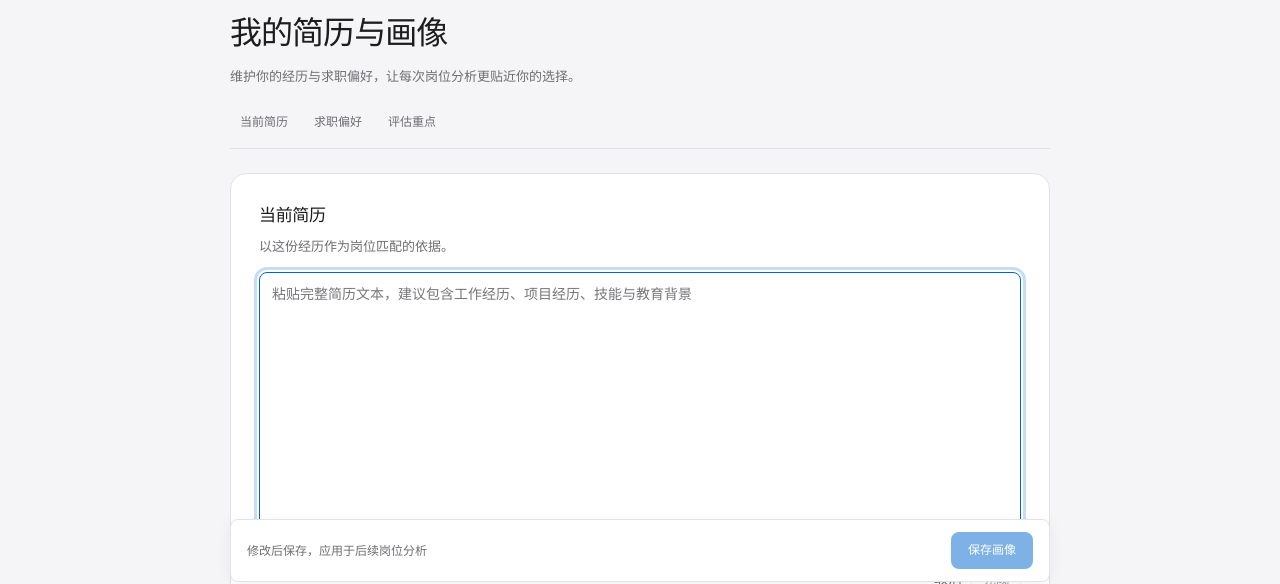
Test case: business pages › does not claim a failed profile save succeeded
The image size is (1280, 584).
In the text box named "当前简历": (640, 414) [259,272,1021,555], type "resume"
(page scrolled)
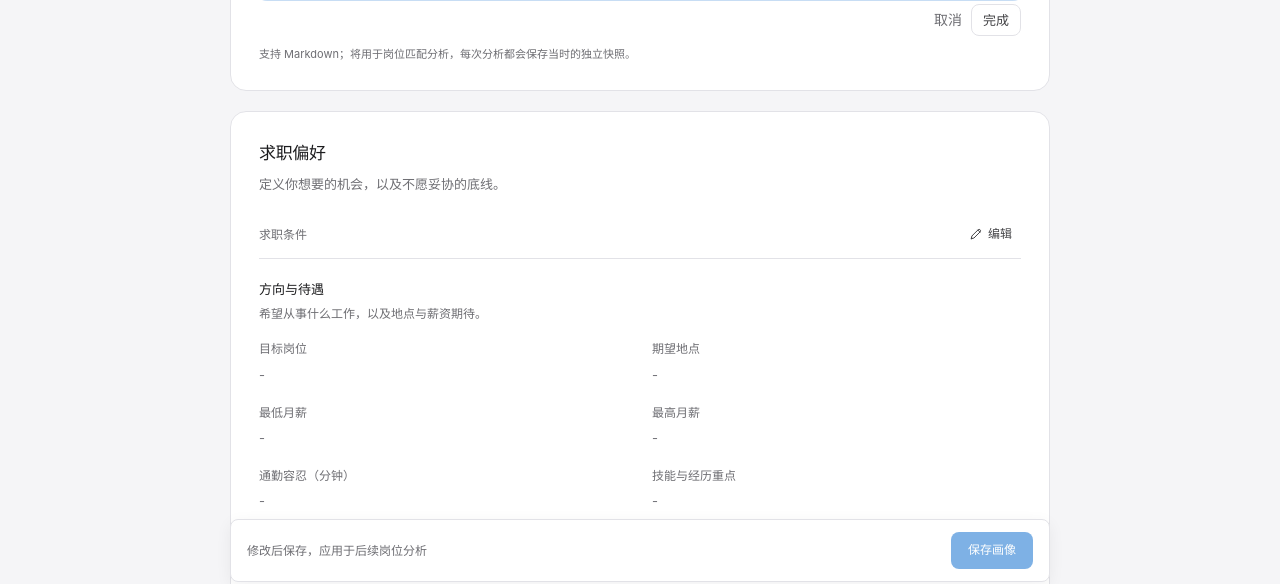
Click the button with aria-label "编辑分析偏好": (990, 234) [960,220,1021,249]
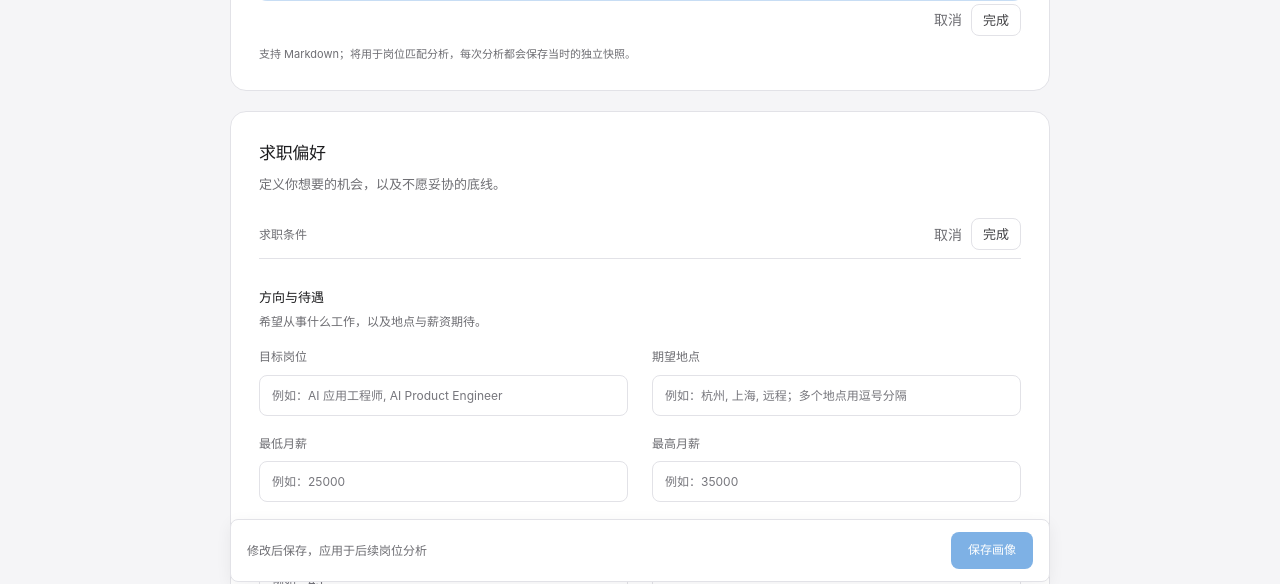
In the field labelled "目标岗位": (444, 395) [259,374,628,416], type "role"
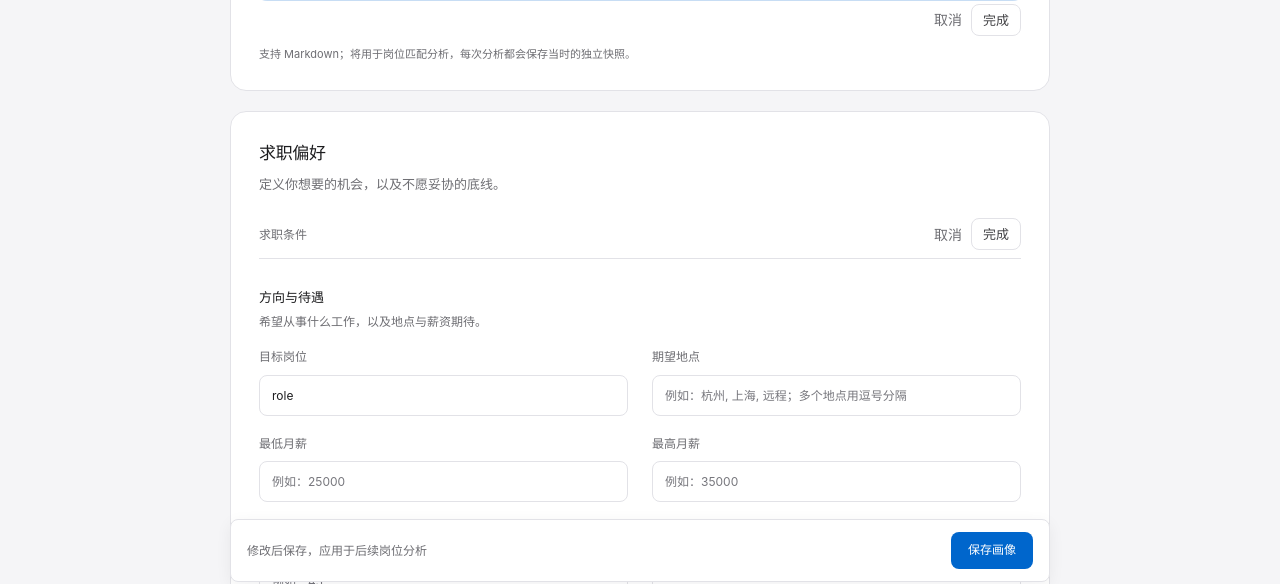
Click the button "保存画像": (992, 551) [951,532,1033,569]
(page scrolled)
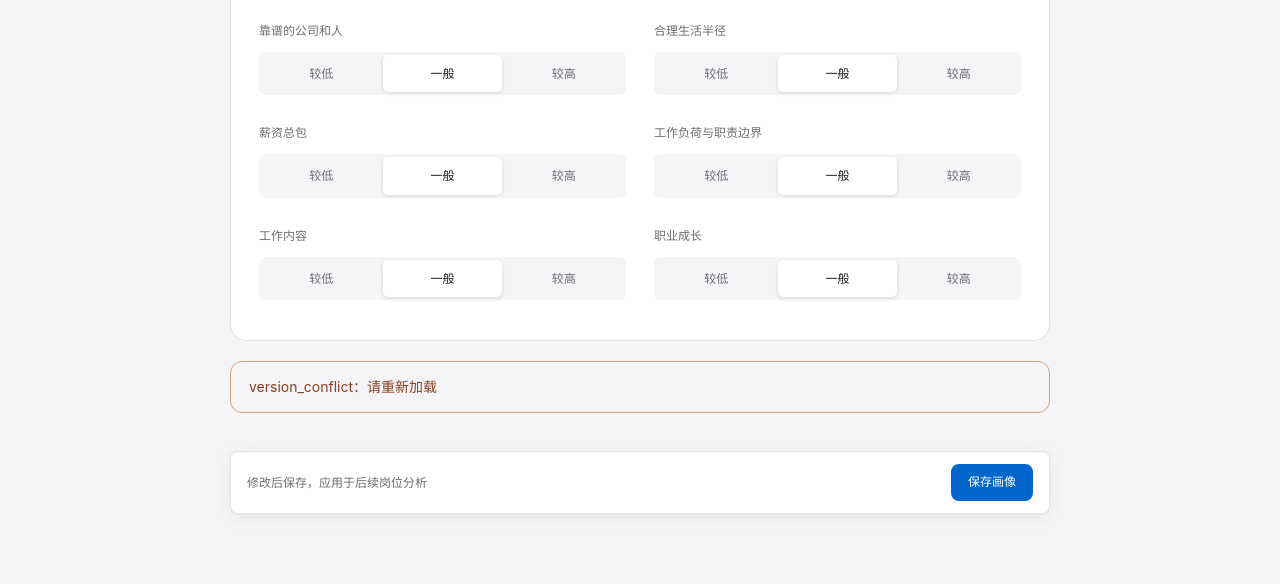
expect the message shows "version_conflict": met, box [249,378,437,395]
